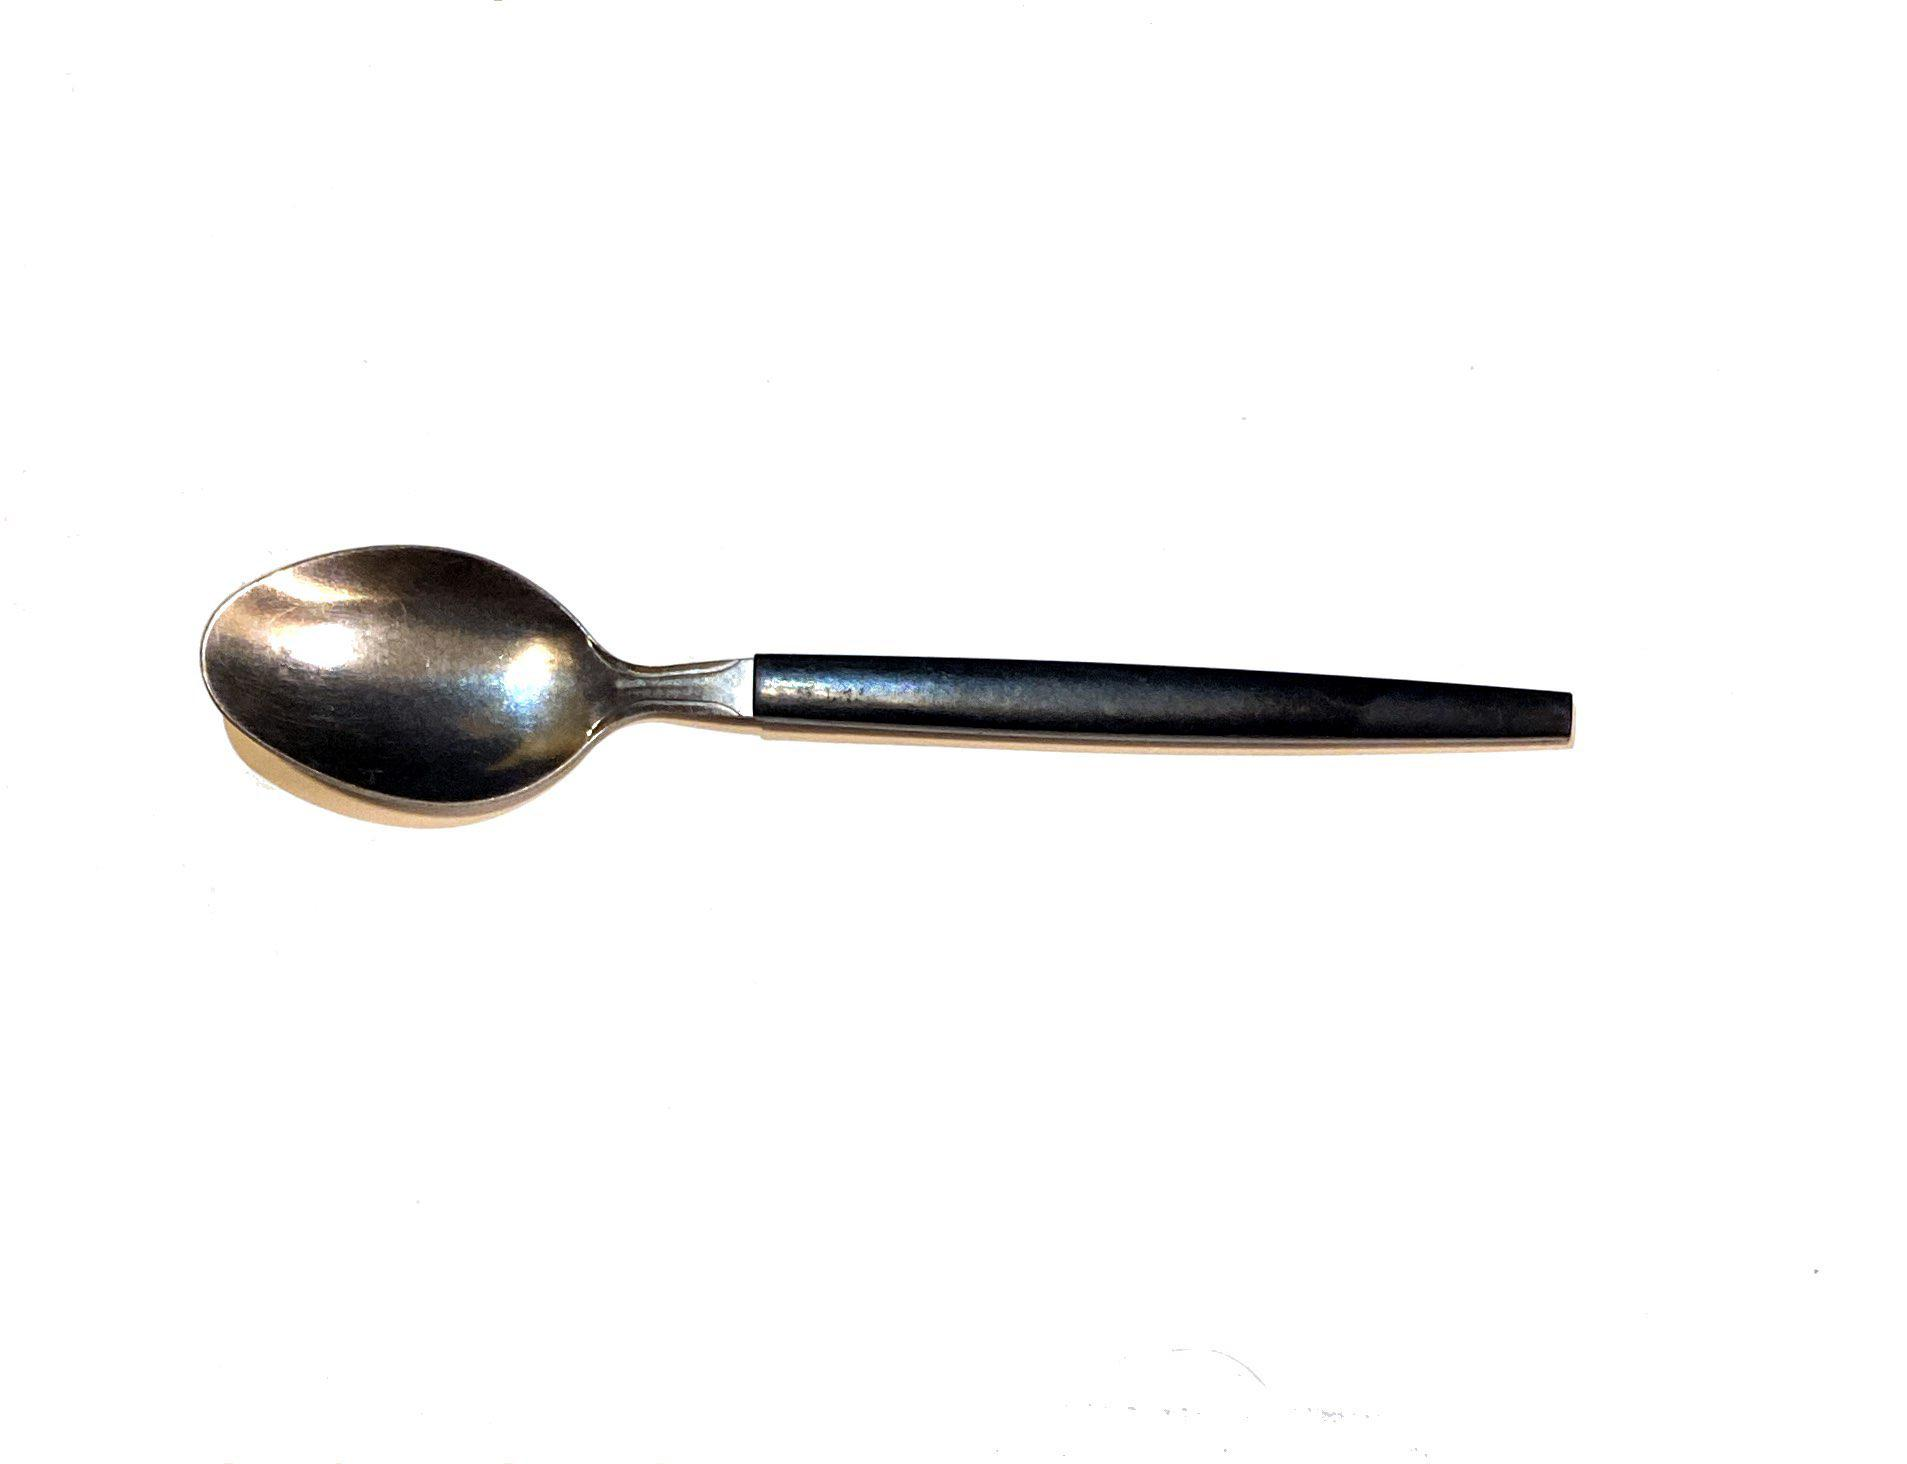Spoon: (145, 448, 1821, 1118)
